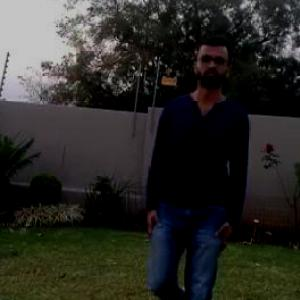follow: (147, 41, 246, 299)
